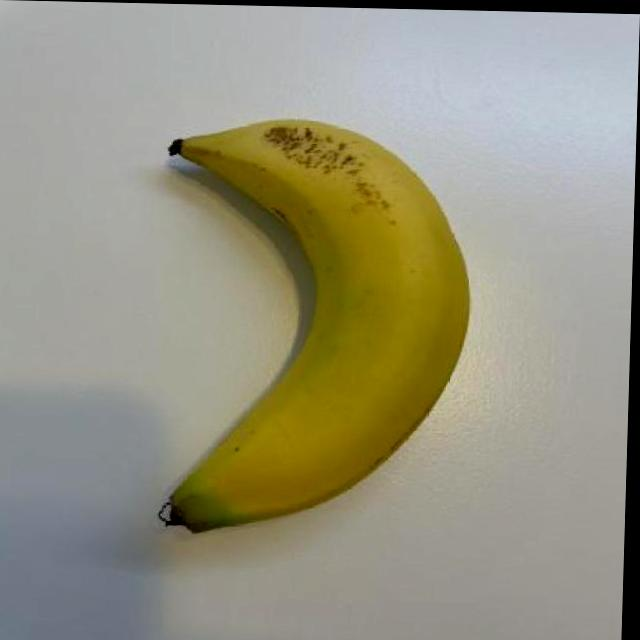banana: (144, 110, 480, 542)
